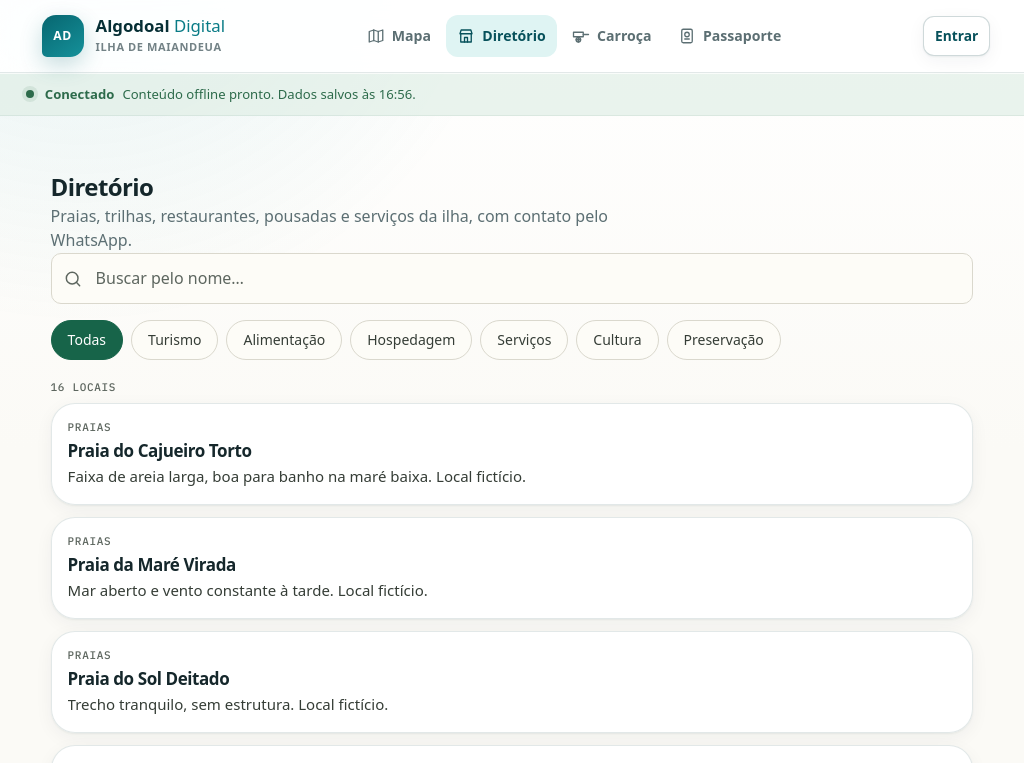
Test: diretório › filtra a lista ao escolher uma categoria
The image size is (1024, 763).
Check: the heading "Praia do Cajueiro Torto" is shown, box 68,439 -> 252,462
Turismo: praias e trilhas (e pontos turísticos), sem os negócios
Click the radio button labelled "Turismo" at coordinates (175, 340), box 131,320 -> 218,360
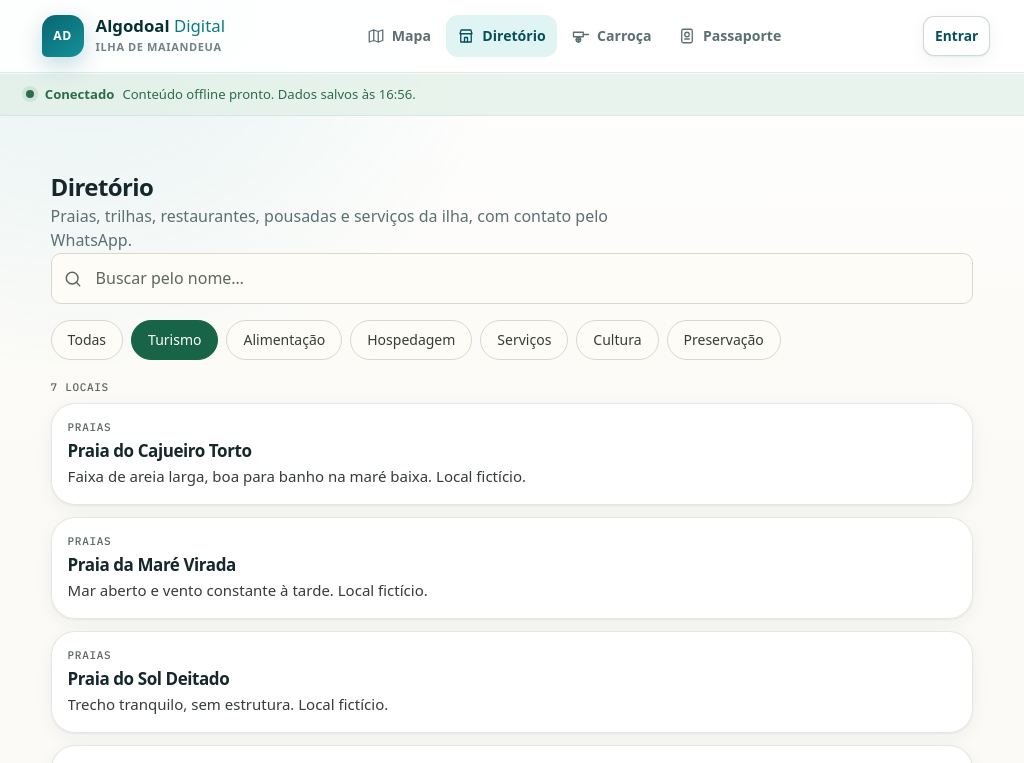
Check: the heading "Praia do Cajueiro Torto" is shown, box 68,439 -> 252,462
Check: the radio button labelled "Turismo" is checked, box 131,320 -> 218,360
Hospedagem: só as pousadas
Click the radio button labelled "Hospedagem" at coordinates (411, 340), box 350,320 -> 472,360
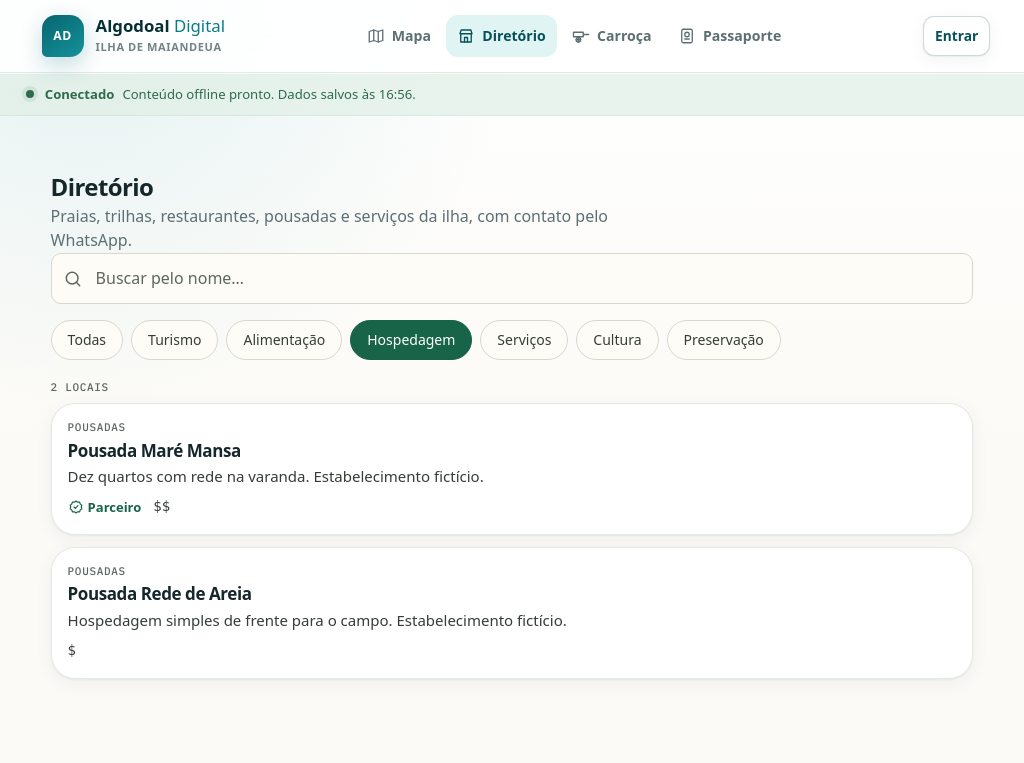
Check: the heading "Pousada Maré Mansa" is shown, box 68,439 -> 241,462
Check: the heading "Pousada Rede de Areia" is shown, box 68,582 -> 252,605
Check: the link "Praia do Cajueiro Torto" is gone
